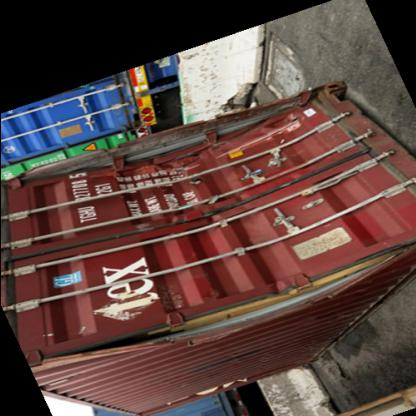Damage: (135, 261, 374, 352)
